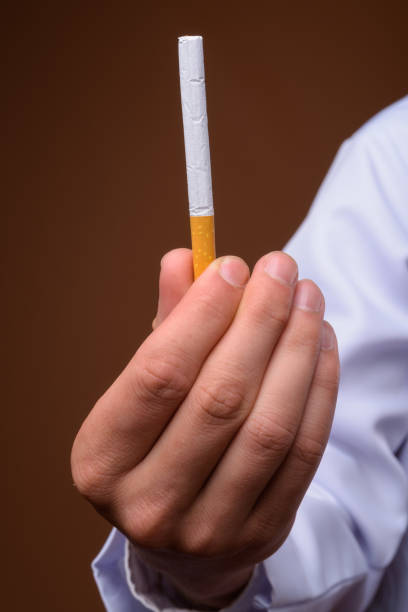cigarette: (174, 32, 219, 279)
